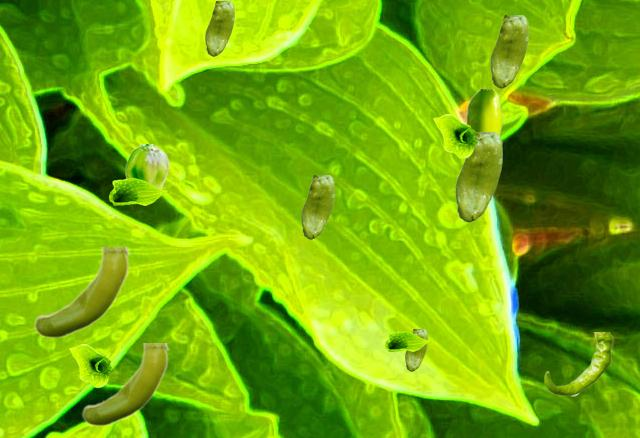green_chili: (33, 247, 129, 336), (81, 343, 168, 424), (544, 332, 612, 395), (455, 132, 501, 221), (490, 15, 527, 87), (301, 175, 333, 238), (125, 144, 168, 188), (466, 89, 501, 134), (205, 1, 233, 55), (405, 329, 426, 370)
